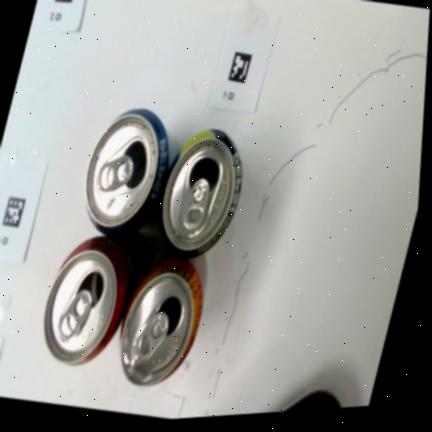can_coke_decaf: (120, 258, 203, 386)
can_coke_zero: (44, 236, 131, 364)
can_pepsi: (85, 109, 169, 237)
can_pepsi_zero: (161, 130, 242, 256)
